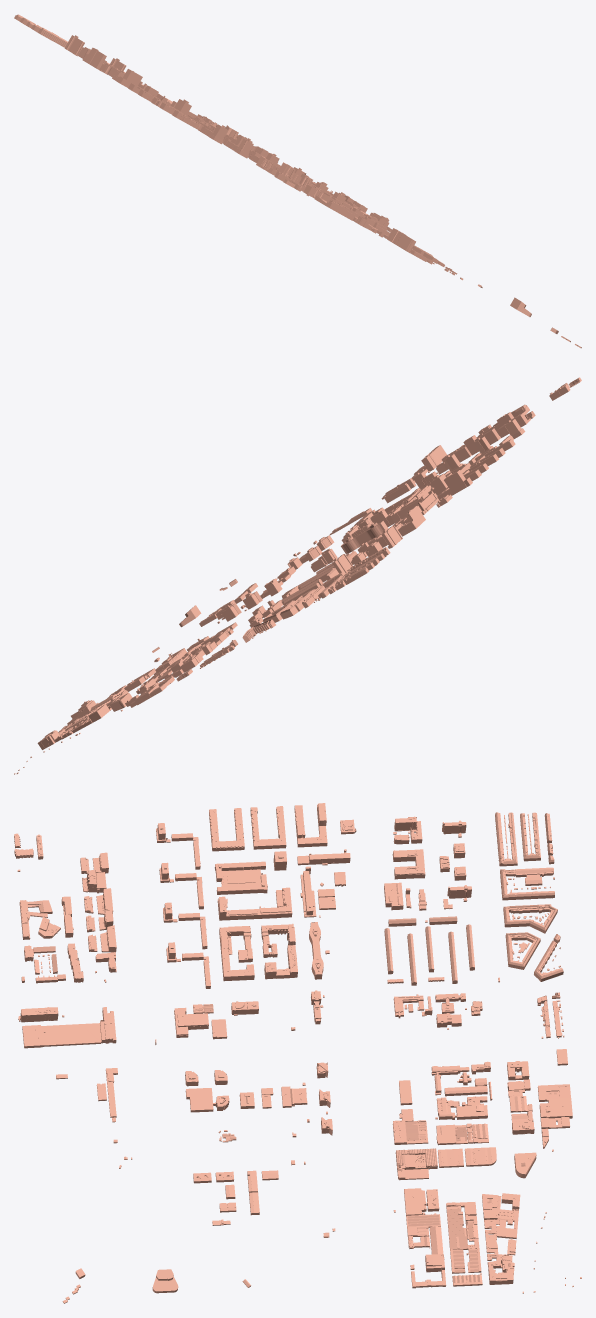
3 renders of one model, top to bottom at view 1: azimuth 30°, elevation 25°; view 2: azimuth 150°, elevation 25°; view 3: azimuth 270°, elevation 25°, orthographic. The views are drawn at different scales.
Size of the model in its own units: 3.35e+07 by 2.55e+07 by 4.12e+07.
